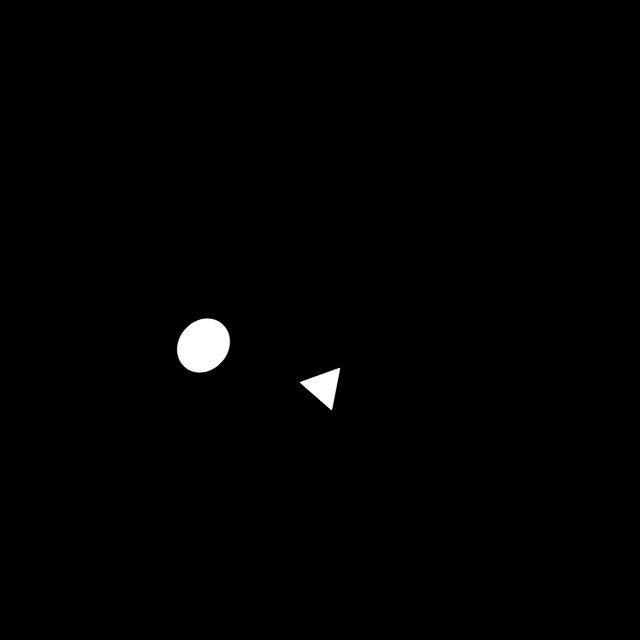Circle: (170, 311, 236, 380)
Triangle: (294, 362, 346, 418)
